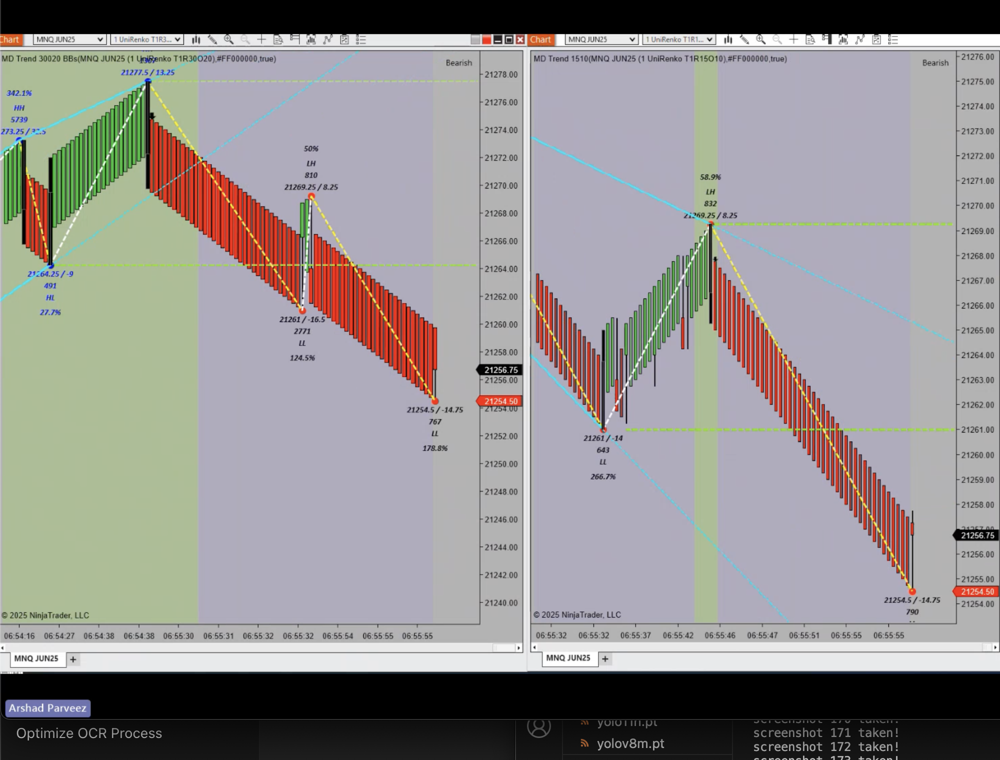HH: (6, 100, 33, 116)
HL: (40, 289, 61, 307)
LH: (300, 155, 329, 172), (701, 185, 722, 200)
LL: (424, 422, 450, 446), (593, 451, 616, 472), (294, 335, 315, 353)
